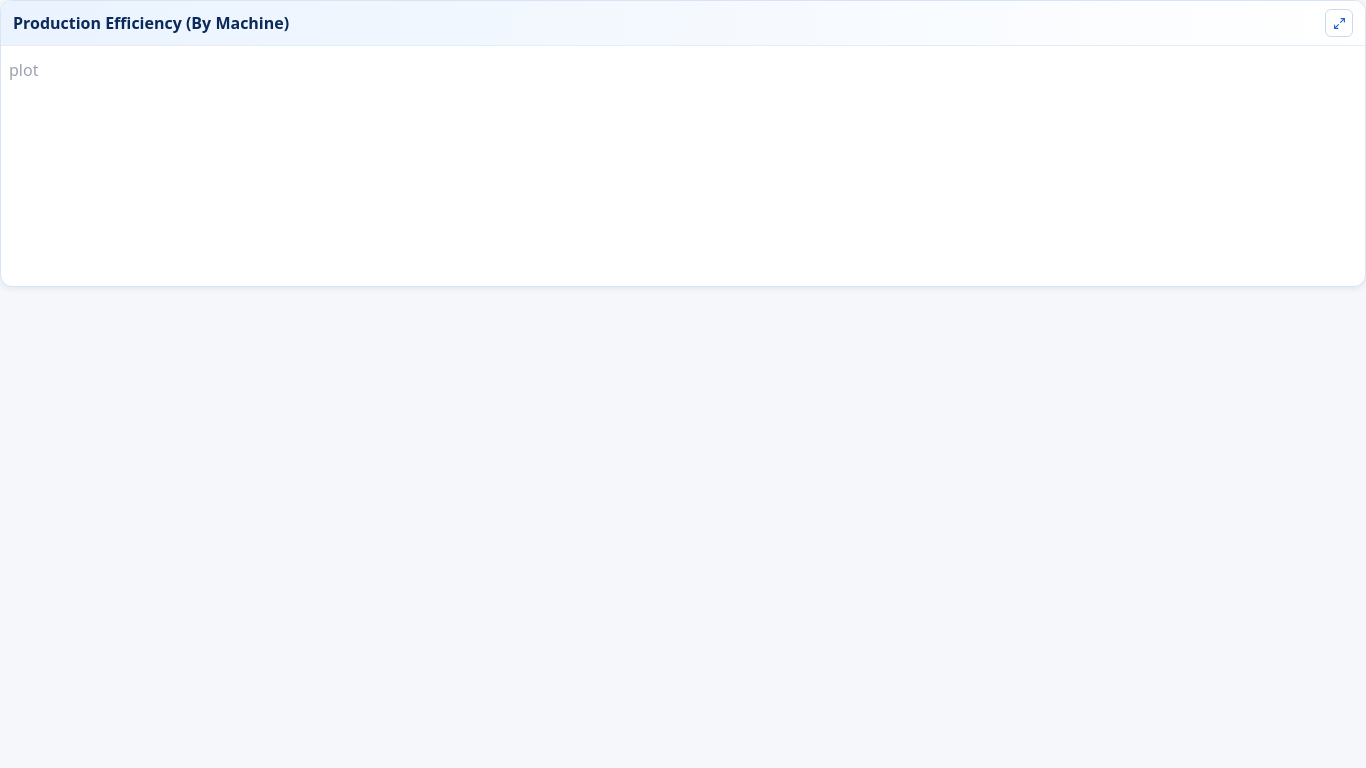
Test: Expand modal › without exportData the modal has no Export
This screenshot has width=1366, height=768.
Click the button named "Expand chart" at (1339, 23), box [1325,9,1353,37]
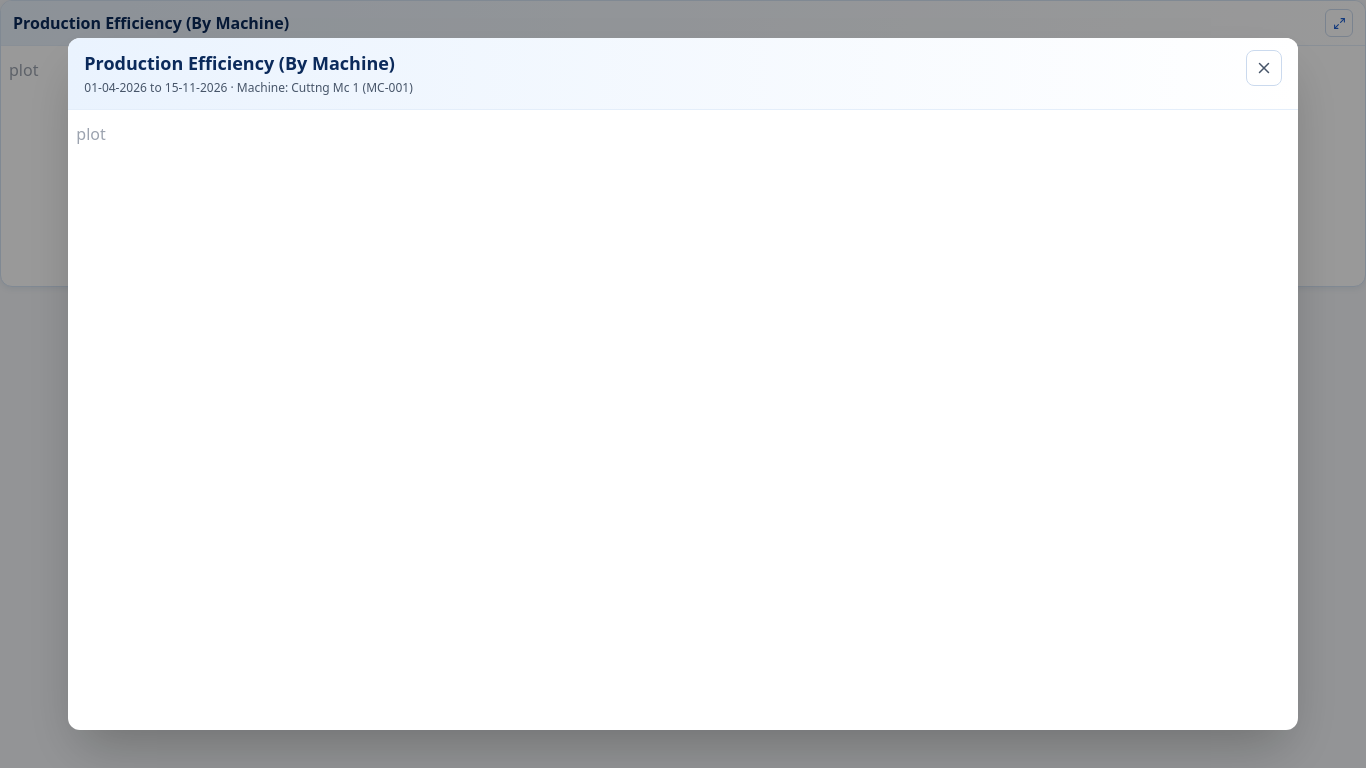
Expected: the button named "Close" is shown, [1246,50,1282,86]
